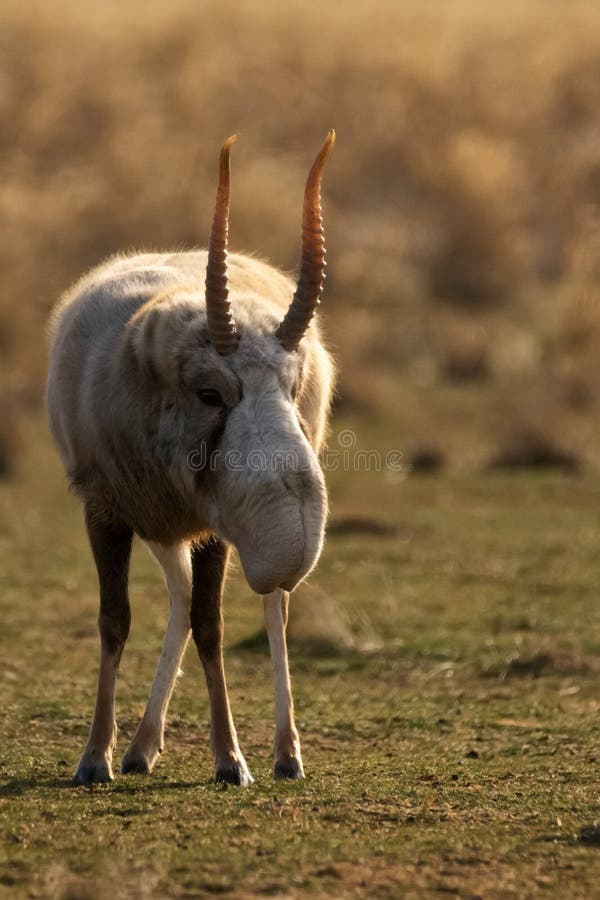saiga: (46, 124, 340, 805)
